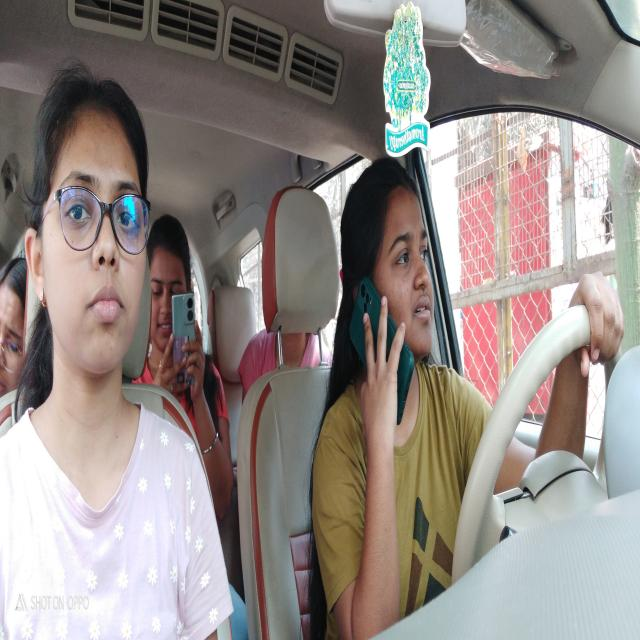mobile: (349, 281, 416, 428)
person: (32, 70, 150, 380), (341, 160, 436, 400), (145, 216, 200, 381), (1, 256, 32, 413)
